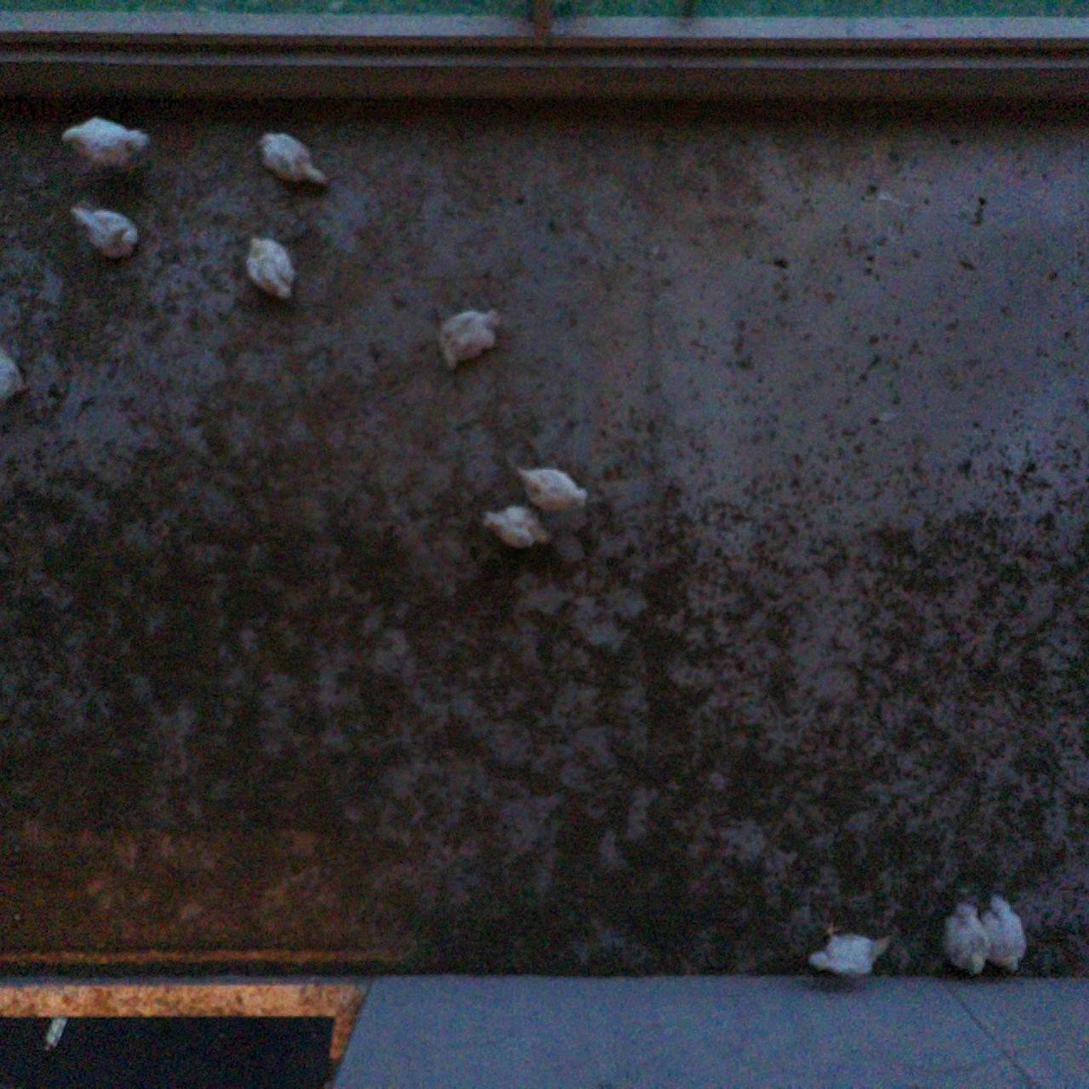chicken: (60, 110, 154, 186), (799, 922, 893, 983), (435, 302, 508, 375), (254, 127, 333, 194), (240, 226, 306, 303), (67, 201, 145, 266), (974, 888, 1029, 976), (936, 899, 991, 976), (481, 501, 557, 555), (512, 465, 588, 512), (0, 347, 33, 403)
